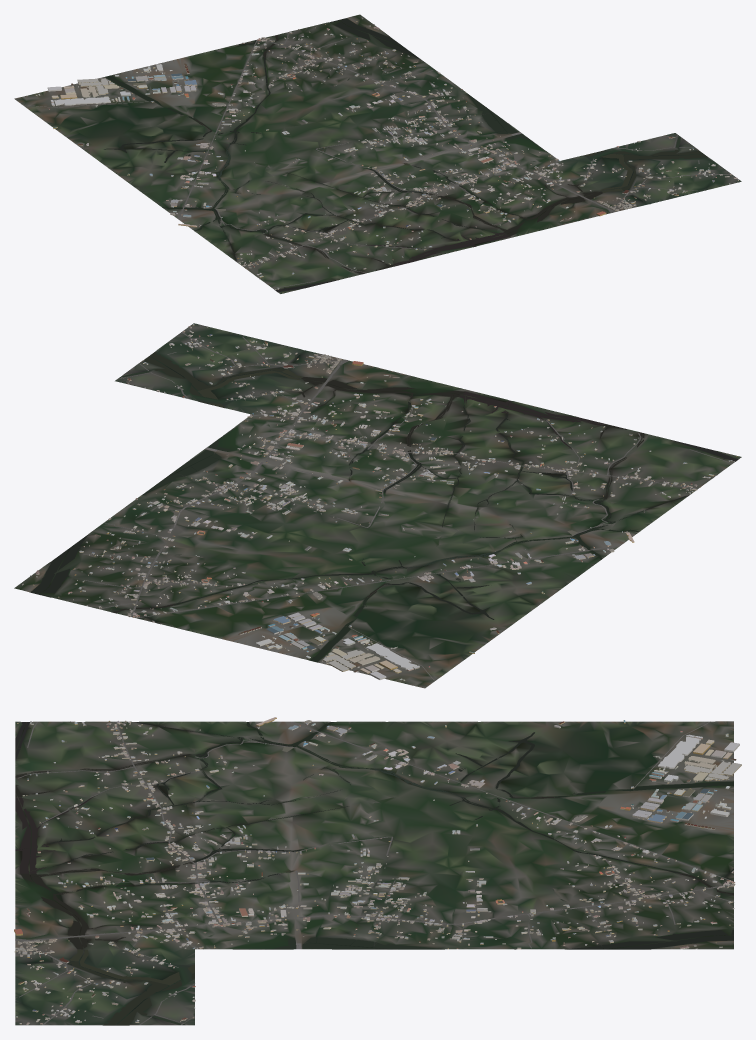
3 views of the same model, one above another, from view 1: azimuth 30°, elevation 25°; view 2: azimuth 150°, elevation 25°; view 3: azimuth 270°, elevation 25° (orthographic). The views are drawn at different scales.
Parts seen in each view (by area): view 1: ground, buildings, water, roads; view 2: ground, buildings, water, roads; view 3: ground, buildings, water, roads.
Boxes of the visible parts, x1=… form: ground: x1=14, y1=14, x2=741, y2=293; buildings: x1=35, y1=17, x2=738, y2=292; water: x1=104, y1=18, x2=708, y2=292; roads: x1=24, y1=32, x2=729, y2=288; ground: x1=14, y1=323, x2=741, y2=688; buildings: x1=22, y1=324, x2=737, y2=680; water: x1=30, y1=334, x2=738, y2=662; roads: x1=83, y1=332, x2=731, y2=680; ground: x1=15, y1=721, x2=733, y2=1025; buildings: x1=14, y1=717, x2=741, y2=1024; water: x1=15, y1=722, x2=733, y2=1025; roads: x1=15, y1=721, x2=733, y2=1025.
Bounding box in the file's own units: 5672 × 22.86 × 5675.
